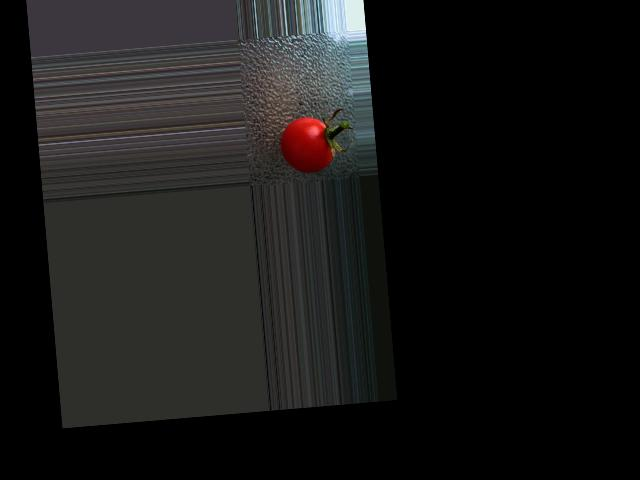tomato: (277, 114, 333, 174)
